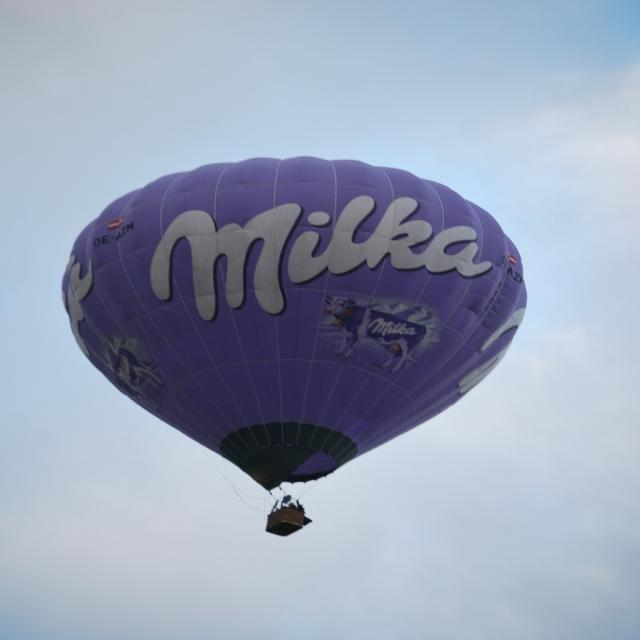milka: (146, 196, 500, 374), (91, 334, 169, 414)
